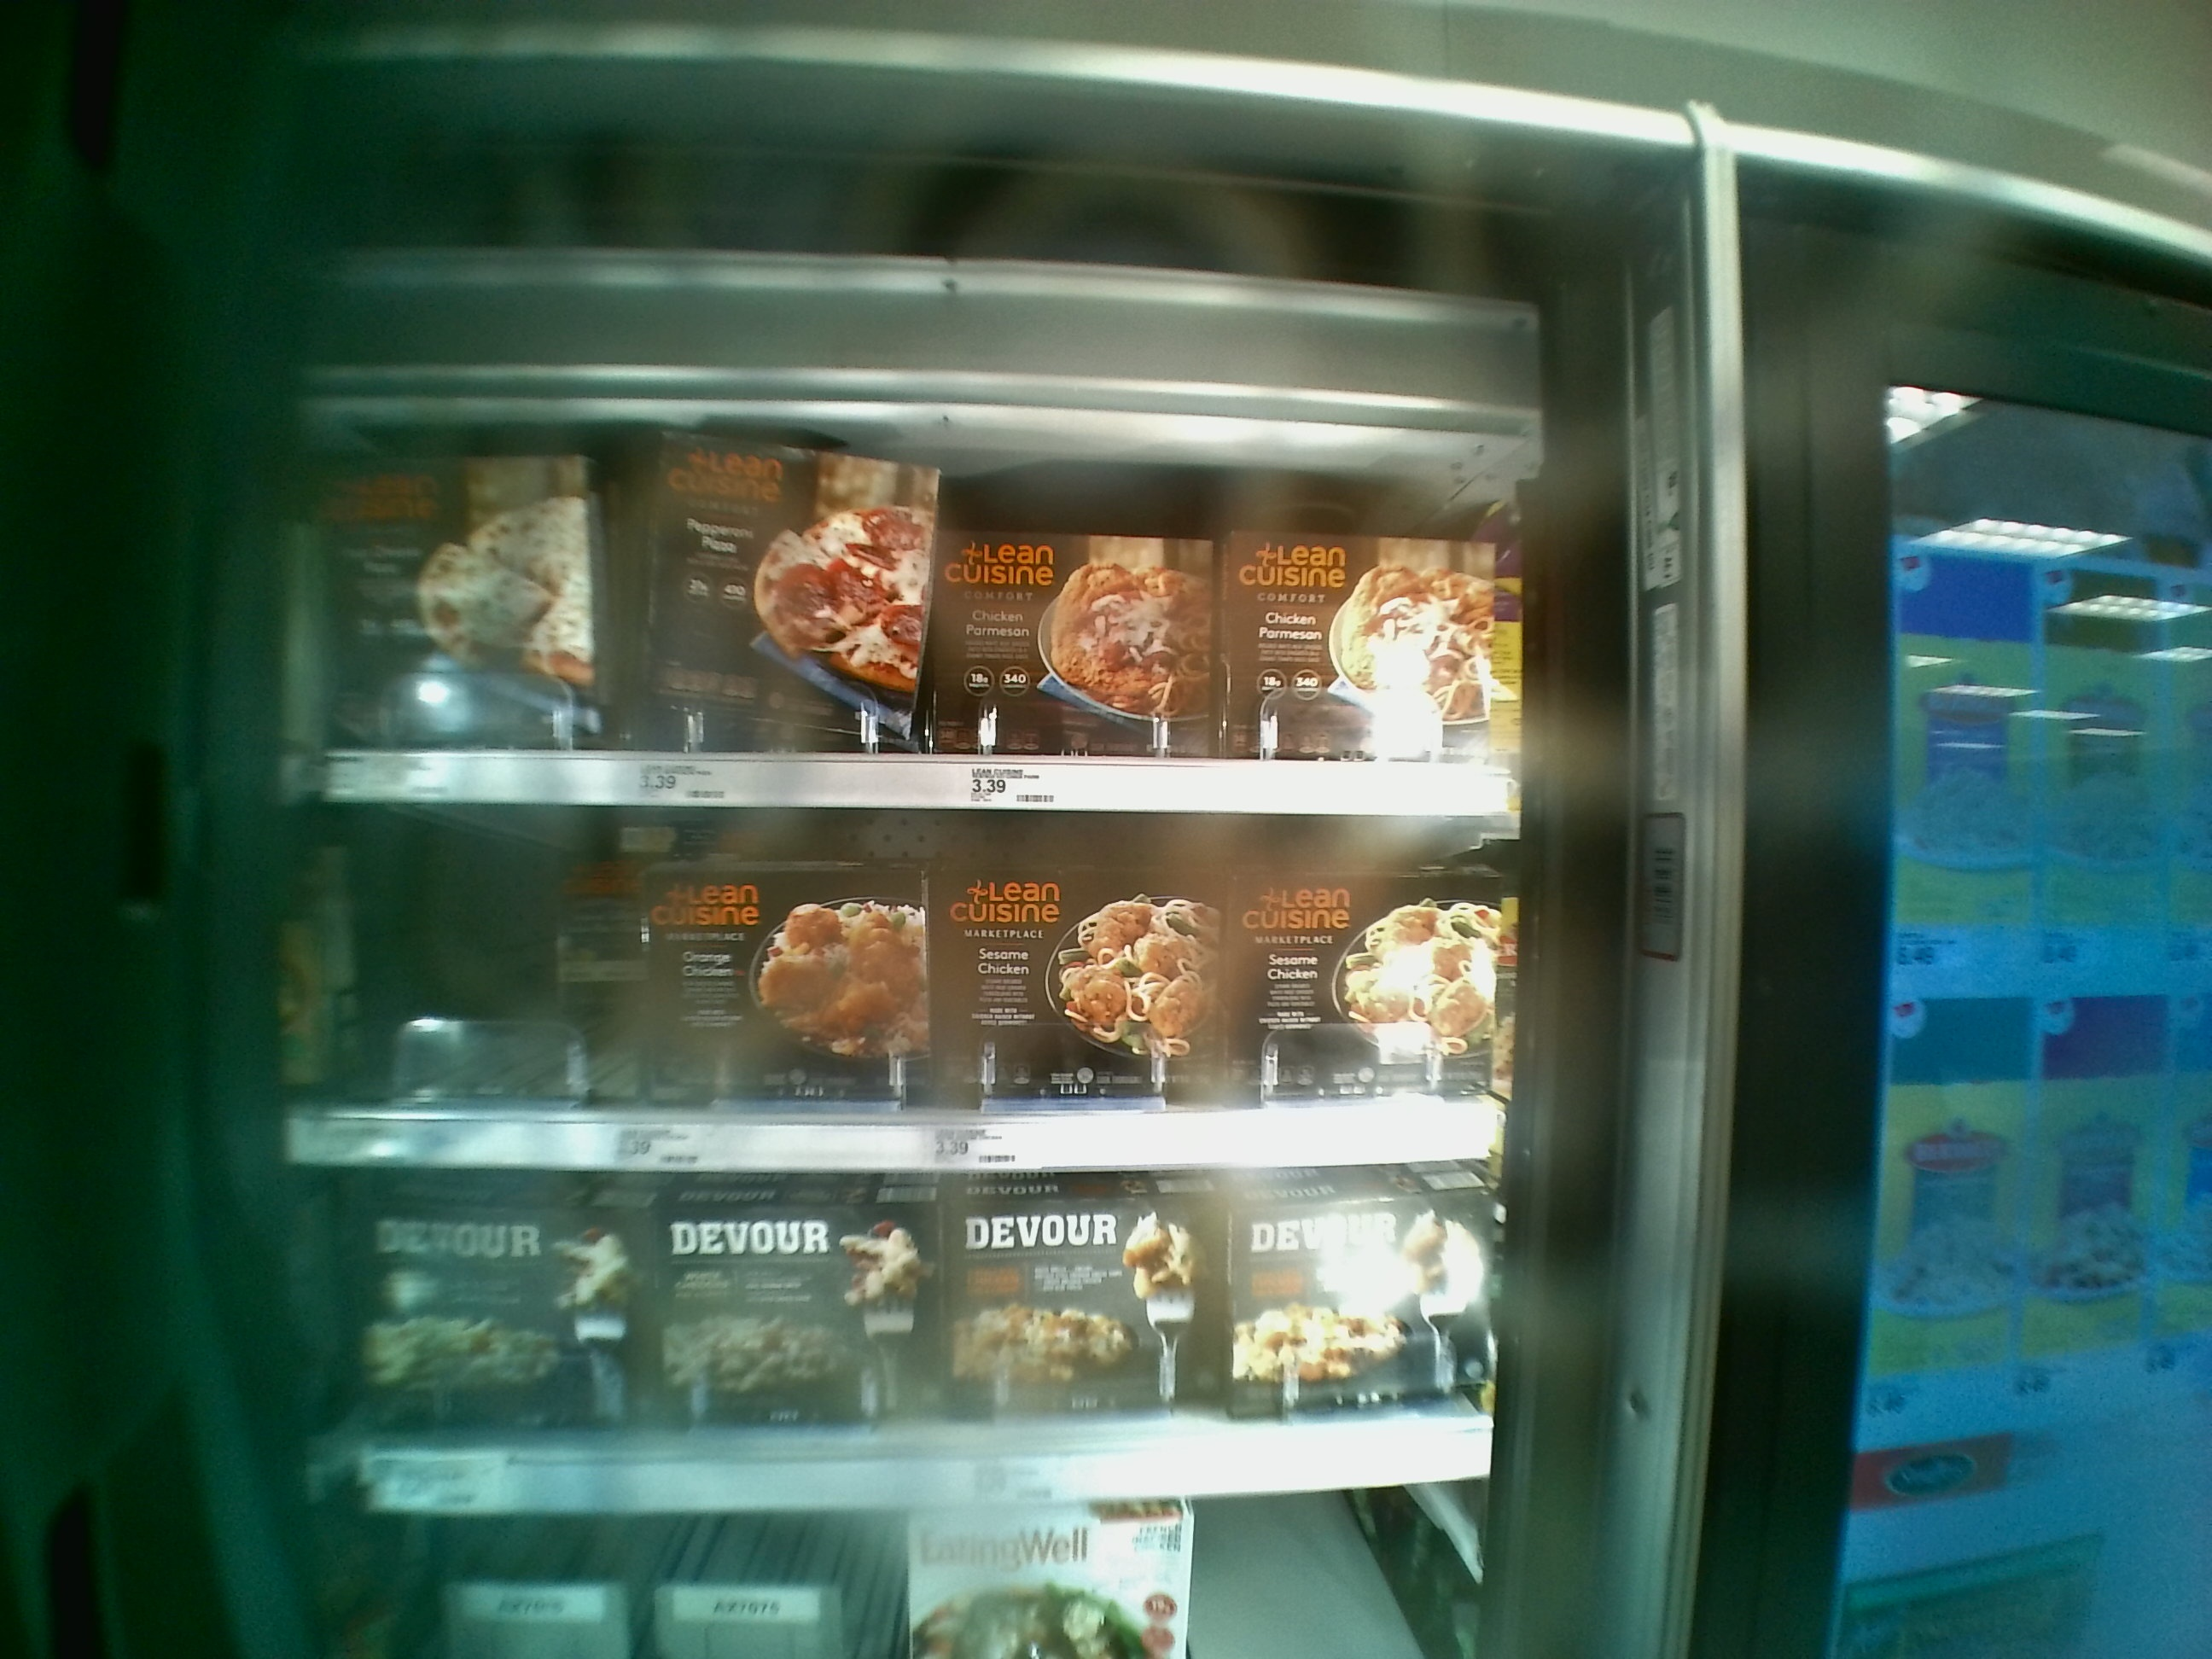Shelf: (298, 396, 1524, 812), (289, 791, 1503, 1173), (298, 1161, 1521, 1521)
